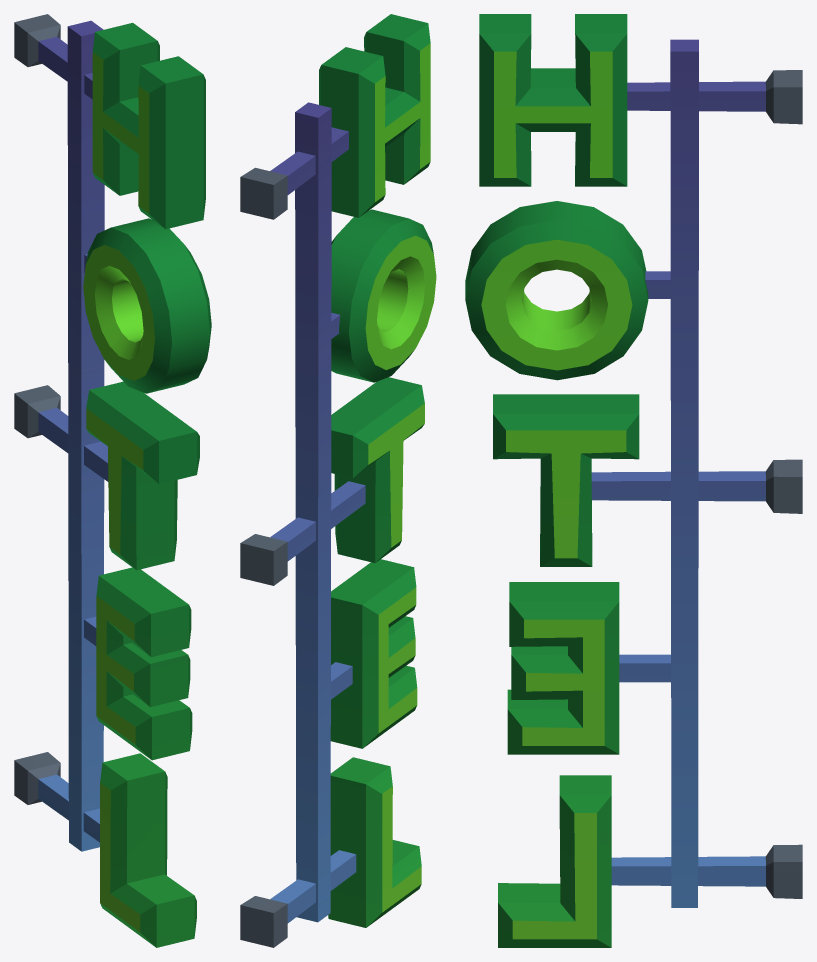
File: HotelSign_3_A.glb
3 views of the same model, side by side, from view 1: azimuth 30°, elevation 25°; view 2: azimuth 150°, elevation 25°; view 3: azimuth 270°, elevation 25° (orthographic). The views are drawn at different scales.
Visible parts, largest first — view 1: HotelSign_3_A; view 2: HotelSign_3_A; view 3: HotelSign_3_A.
Part boxes in pixels (bbox=[...]): HotelSign_3_A: bbox=[14, 14, 211, 947]; HotelSign_3_A: bbox=[240, 14, 436, 947]; HotelSign_3_A: bbox=[465, 14, 802, 947].
Size of the model in its own units: 0.4961 by 7.29 by 2.44.
3 materials, 3 textured.
